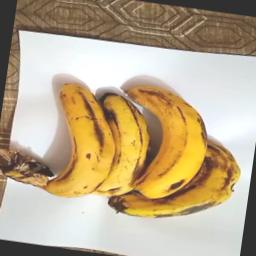Banana Unripe: (12, 66, 252, 230)
